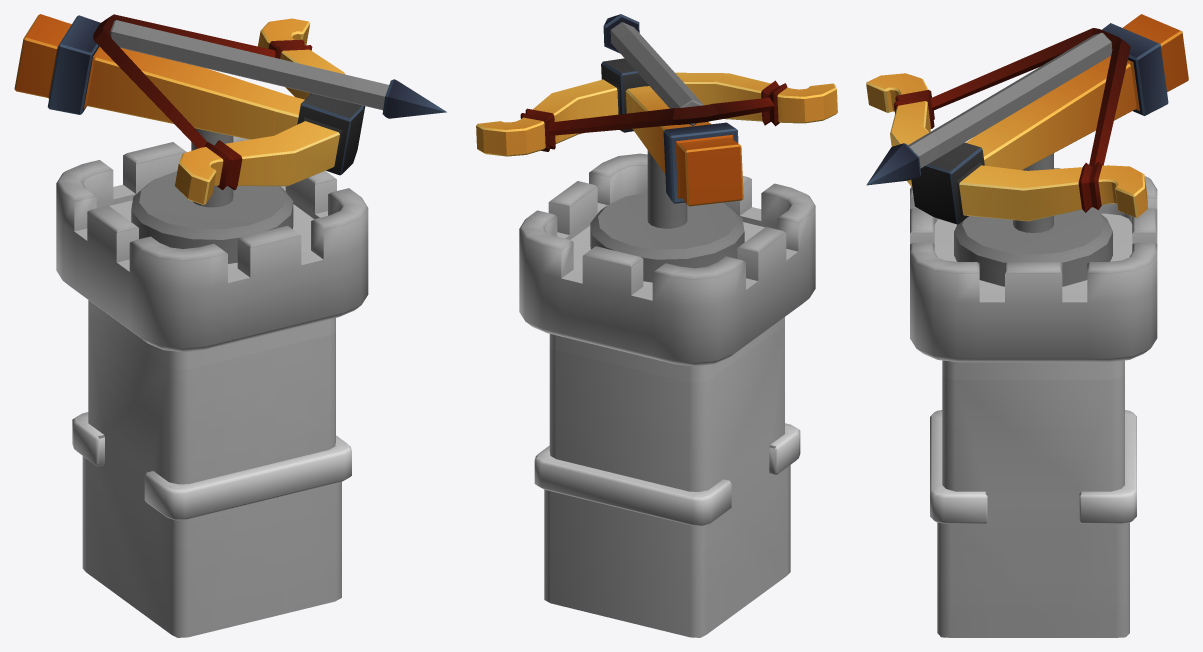
Rendered from Archer Tower 1.fbx.
3 views of the same model, side by side, from view 1: azimuth 30°, elevation 25°; view 2: azimuth 150°, elevation 25°; view 3: azimuth 270°, elevation 25° (orthographic). The views are drawn at different scales.
Parts seen in each view (by area): view 1: Tower_Archer1, crossbow1, arrow1, day1, day2; view 2: Tower_Archer1, crossbow1, arrow1, day2, day1; view 3: Tower_Archer1, crossbow1, arrow1, day1, day2.
Part boxes in pixels (x1,y1,x2,y2): Tower_Archer1: (56, 136, 368, 637); crossbow1: (14, 14, 365, 263); arrow1: (110, 20, 446, 118); day1: (93, 22, 207, 148); day2: (97, 14, 275, 57); Tower_Archer1: (519, 153, 815, 637); crossbow1: (476, 58, 837, 282); arrow1: (603, 14, 703, 125); day2: (548, 106, 696, 135); day1: (694, 97, 774, 123); Tower_Archer1: (910, 168, 1157, 637); crossbow1: (866, 14, 1188, 286); arrow1: (866, 32, 1112, 185); day1: (931, 28, 1108, 110); day2: (1089, 33, 1130, 166).
Bounding box in the file's own units: 0.8721 × 1.6 × 0.8721.
1 material, 1 textured.
